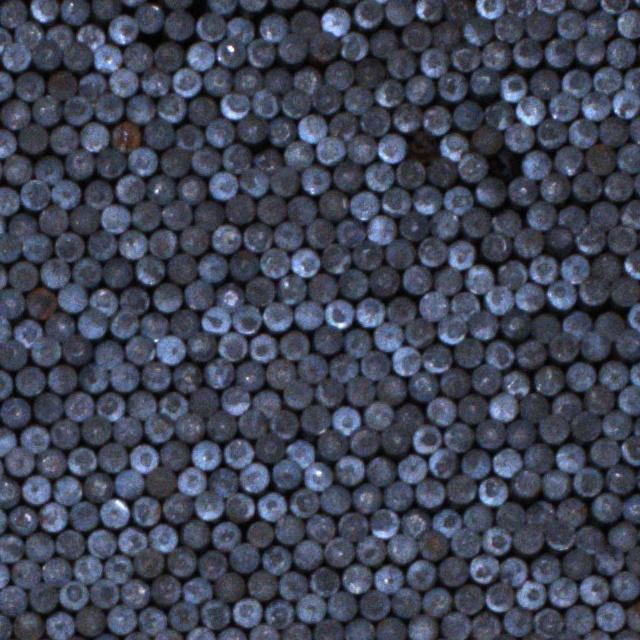tool: (593, 309, 627, 343), (538, 171, 571, 204), (25, 286, 58, 319), (316, 188, 349, 221), (560, 548, 594, 580), (254, 490, 288, 522), (588, 436, 622, 468), (412, 477, 447, 508), (144, 466, 177, 498), (557, 496, 590, 528), (270, 458, 303, 490), (222, 437, 255, 469), (435, 311, 468, 343), (545, 278, 578, 310), (604, 36, 636, 69), (490, 205, 522, 238), (187, 94, 220, 126), (166, 544, 197, 578), (510, 523, 544, 554), (583, 143, 617, 174), (528, 551, 560, 583), (556, 441, 588, 473), (204, 409, 236, 441), (566, 359, 598, 391), (202, 356, 234, 388), (548, 330, 580, 362), (571, 170, 603, 202), (160, 145, 192, 177), (14, 69, 46, 101), (320, 242, 352, 274), (384, 237, 416, 269), (480, 230, 512, 262), (283, 138, 315, 170), (484, 99, 516, 131), (405, 73, 437, 105), (419, 46, 451, 78), (222, 492, 255, 523), (536, 413, 569, 444), (601, 408, 634, 439), (393, 399, 426, 430), (499, 308, 532, 339), (448, 290, 481, 321), (513, 225, 544, 258), (134, 254, 167, 285), (109, 120, 142, 151), (244, 274, 275, 307), (385, 48, 418, 79), (442, 422, 476, 452), (184, 278, 214, 312), (133, 546, 164, 578), (150, 574, 182, 605), (341, 563, 373, 594), (228, 542, 260, 573), (322, 534, 354, 565), (416, 529, 448, 560), (99, 498, 130, 530), (159, 439, 191, 470), (94, 390, 126, 421), (108, 361, 140, 392), (155, 334, 187, 365), (591, 492, 622, 524), (540, 469, 572, 500), (572, 466, 604, 497), (238, 461, 270, 492), (428, 447, 460, 478), (492, 447, 524, 478), (523, 441, 555, 472), (190, 439, 222, 470), (505, 418, 537, 449), (488, 390, 519, 422), (516, 338, 547, 370), (310, 324, 341, 356), (402, 316, 434, 347), (531, 310, 562, 342), (353, 296, 384, 328), (71, 257, 102, 289), (95, 146, 126, 178), (62, 94, 93, 126), (370, 264, 401, 296), (462, 263, 494, 294), (496, 258, 528, 289), (288, 247, 320, 278), (210, 223, 242, 254), (474, 176, 506, 207), (269, 166, 301, 197), (364, 160, 395, 192), (458, 151, 489, 183), (278, 89, 310, 120), (310, 83, 342, 114), (232, 64, 263, 96), (451, 40, 482, 72), (482, 39, 513, 71), (246, 36, 277, 68), (165, 600, 198, 630), (212, 570, 245, 600), (384, 533, 417, 563), (448, 527, 481, 557), (303, 459, 333, 492), (363, 455, 396, 485), (348, 426, 381, 456), (597, 116, 630, 146), (103, 255, 133, 288), (126, 146, 159, 176), (142, 118, 175, 148), (430, 264, 463, 294), (343, 82, 373, 115), (134, 1, 164, 34), (606, 225, 640, 254), (572, 35, 606, 64), (533, 606, 564, 637), (197, 548, 228, 579), (36, 447, 67, 478), (141, 361, 172, 392), (289, 486, 320, 517), (344, 375, 375, 406), (376, 374, 407, 405), (265, 358, 296, 389), (297, 352, 328, 383), (454, 337, 485, 368), (341, 327, 372, 358), (384, 295, 415, 326), (525, 198, 556, 229), (580, 90, 611, 121), (511, 37, 542, 68), (8, 260, 39, 291), (40, 258, 71, 289), (54, 231, 85, 262), (146, 227, 177, 258), (64, 147, 95, 178), (109, 66, 140, 97), (461, 206, 492, 237), (349, 190, 380, 221), (442, 183, 473, 214), (332, 161, 363, 192), (346, 133, 377, 164), (392, 102, 423, 133), (452, 99, 483, 130), (401, 20, 432, 51), (232, 596, 262, 628), (358, 589, 390, 619), (405, 559, 437, 589), (544, 520, 576, 550), (595, 600, 625, 632), (608, 570, 640, 600), (116, 525, 148, 555), (8, 504, 38, 536), (131, 495, 161, 527), (162, 493, 194, 523), (0, 396, 32, 426), (157, 390, 189, 420), (48, 361, 78, 393), (12, 317, 44, 347), (76, 307, 108, 337), (494, 502, 526, 532), (604, 464, 636, 494), (334, 454, 364, 486), (253, 432, 285, 462), (411, 424, 443, 454), (236, 406, 266, 438), (520, 392, 552, 422), (408, 370, 440, 400), (470, 364, 502, 394), (534, 362, 564, 394), (597, 360, 629, 390), (580, 330, 612, 360), (248, 332, 280, 362), (592, 251, 624, 281), (520, 149, 552, 179), (503, 122, 535, 152), (515, 95, 547, 125), (118, 284, 150, 314), (168, 252, 198, 284), (100, 204, 132, 234), (161, 200, 193, 230), (124, 93, 156, 123), (141, 65, 171, 97), (171, 66, 201, 98), (0, 41, 32, 71), (275, 275, 307, 305), (398, 210, 430, 240), (255, 194, 287, 224), (301, 163, 331, 195), (438, 70, 468, 102), (278, 32, 308, 64), (308, 30, 340, 60), (308, 566, 341, 595), (353, 481, 382, 514), (215, 331, 248, 360), (279, 328, 308, 361), (31, 154, 64, 183), (471, 124, 504, 153), (235, 114, 268, 143), (106, 603, 136, 634), (198, 598, 229, 628), (295, 592, 325, 623), (182, 575, 213, 605), (260, 542, 290, 573), (481, 524, 512, 554), (68, 501, 99, 531), (84, 472, 114, 503), (126, 389, 157, 419), (30, 335, 61, 365), (45, 312, 76, 342), (180, 518, 211, 548), (463, 501, 493, 532), (321, 484, 352, 514), (446, 473, 477, 503), (477, 476, 508, 506), (176, 465, 206, 496), (396, 453, 427, 483), (459, 448, 490, 478), (456, 393, 487, 423), (440, 367, 470, 398), (234, 360, 265, 390), (391, 344, 421, 375), (422, 343, 453, 373), (562, 309, 593, 339), (528, 252, 558, 283), (575, 223, 606, 253), (507, 174, 538, 204), (536, 118, 567, 148), (568, 118, 598, 149), (524, 10, 555, 40), (584, 9, 615, 39), (57, 282, 88, 312), (39, 204, 69, 235), (115, 173, 145, 204), (49, 124, 80, 154), (32, 40, 63, 70), (123, 41, 153, 72), (338, 269, 368, 300), (417, 236, 447, 267), (179, 225, 210, 255), (273, 220, 304, 250), (430, 209, 460, 240), (286, 194, 316, 225), (426, 157, 456, 188), (204, 118, 235, 148), (298, 112, 328, 143), (468, 66, 499, 96), (294, 64, 324, 95), (325, 59, 355, 90), (216, 36, 246, 67), (338, 30, 369, 60), (430, 20, 461, 50), (462, 15, 493, 45), (163, 10, 194, 40), (257, 12, 288, 42), (320, 6, 351, 36), (12, 611, 44, 640), (75, 604, 104, 636), (452, 584, 484, 613), (245, 569, 277, 598), (438, 555, 470, 584), (51, 475, 83, 504), (18, 423, 50, 452), (80, 414, 112, 443), (14, 365, 46, 394), (275, 514, 304, 546), (206, 467, 238, 496), (267, 410, 299, 439), (168, 307, 200, 336), (578, 276, 610, 305), (560, 69, 592, 98), (544, 36, 573, 68), (22, 233, 54, 262), (92, 93, 124, 122), (156, 93, 188, 122), (192, 145, 221, 177), (361, 104, 390, 136), (399, 508, 432, 536), (44, 610, 74, 640), (28, 581, 58, 611), (40, 555, 70, 585), (470, 610, 500, 640), (503, 606, 533, 636), (564, 604, 594, 634), (484, 581, 514, 611), (278, 570, 308, 600), (373, 562, 403, 592), (606, 520, 636, 550), (24, 531, 54, 561), (87, 528, 117, 558), (149, 523, 179, 553), (21, 474, 51, 504), (5, 446, 35, 476), (98, 442, 128, 472), (129, 443, 159, 473), (50, 418, 80, 448), (113, 416, 143, 446), (34, 392, 64, 422), (64, 390, 94, 420), (62, 334, 92, 364), (138, 310, 168, 340), (383, 480, 413, 510), (317, 429, 347, 459), (571, 410, 601, 440), (300, 404, 330, 434), (189, 386, 219, 416), (220, 384, 250, 414), (314, 376, 344, 406), (500, 367, 530, 397), (328, 353, 358, 383), (230, 305, 260, 335), (323, 299, 353, 329), (514, 282, 544, 312), (553, 146, 583, 176), (555, 9, 585, 39), (153, 282, 183, 312), (86, 230, 116, 260), (118, 229, 148, 259), (52, 178, 82, 208), (146, 174, 176, 204), (174, 122, 204, 152), (47, 70, 77, 100), (92, 42, 122, 72), (308, 272, 338, 302), (402, 264, 432, 294), (242, 221, 272, 251), (367, 215, 397, 245), (220, 90, 250, 120), (374, 77, 404, 107), (108, 14, 138, 44), (439, 611, 470, 640), (515, 580, 546, 609), (579, 574, 608, 605), (55, 529, 86, 558), (38, 501, 67, 532), (144, 413, 175, 442), (79, 362, 108, 393), (109, 307, 138, 338), (305, 513, 336, 542), (368, 509, 399, 538), (379, 425, 410, 454), (361, 350, 392, 379), (200, 306, 231, 335), (560, 253, 589, 284), (556, 203, 587, 232), (528, 68, 559, 97), (70, 203, 99, 234), (82, 179, 113, 208), (2, 154, 31, 185), (17, 124, 48, 153), (1, 98, 30, 129), (32, 95, 61, 126), (63, 41, 92, 72), (352, 241, 383, 270), (447, 238, 476, 269), (304, 218, 335, 247), (335, 217, 366, 246), (194, 200, 225, 229), (176, 174, 207, 203), (207, 170, 238, 199), (267, 115, 296, 146), (355, 57, 384, 88), (196, 10, 225, 41), (224, 15, 255, 44), (352, 0, 383, 29), (88, 578, 120, 606), (263, 598, 295, 626), (420, 586, 452, 614), (550, 90, 578, 122), (614, 327, 640, 361), (136, 605, 166, 634), (9, 559, 39, 588), (72, 554, 102, 583), (594, 545, 624, 574), (114, 469, 144, 498), (125, 335, 155, 364), (475, 418, 504, 448), (364, 400, 394, 429), (426, 396, 456, 425), (553, 391, 583, 420), (584, 384, 614, 413), (251, 388, 281, 417), (283, 379, 312, 409), (172, 362, 201, 392), (372, 322, 402, 351), (469, 310, 498, 340), (293, 300, 323, 329), (418, 291, 447, 321), (484, 285, 514, 314), (610, 276, 640, 305), (498, 71, 527, 101), (132, 200, 161, 230), (198, 252, 227, 282), (228, 249, 258, 278), (382, 187, 412, 216), (413, 184, 442, 214), (396, 159, 425, 189), (202, 66, 232, 95), (186, 40, 215, 70), (369, 28, 398, 58), (289, 8, 319, 37), (76, 21, 106, 50), (326, 592, 357, 620), (547, 577, 578, 605), (93, 339, 124, 367), (431, 508, 462, 536), (512, 467, 540, 498), (175, 411, 203, 442), (486, 337, 514, 368), (592, 66, 623, 94), (7, 211, 38, 239), (378, 132, 406, 163), (440, 130, 468, 161), (328, 111, 359, 139), (264, 65, 292, 96), (406, 613, 438, 640), (59, 580, 88, 609), (356, 534, 385, 563), (211, 521, 240, 550), (527, 499, 556, 528), (331, 405, 360, 434), (187, 332, 216, 361), (588, 200, 617, 229), (604, 171, 633, 200), (494, 13, 523, 42), (79, 71, 108, 100), (102, 554, 132, 582), (338, 511, 368, 539), (194, 490, 222, 520), (285, 438, 315, 466), (544, 226, 574, 254), (612, 89, 640, 119), (80, 121, 110, 149), (214, 280, 244, 308), (260, 247, 288, 277), (225, 195, 255, 223), (222, 143, 250, 173), (316, 136, 346, 164), (423, 105, 453, 133), (292, 540, 323, 567), (13, 21, 44, 48), (251, 147, 283, 173), (499, 556, 528, 584), (68, 446, 97, 474), (263, 303, 292, 331), (90, 287, 118, 316), (21, 180, 49, 209), (154, 42, 183, 70), (240, 168, 268, 197), (250, 89, 278, 118), (0, 584, 27, 614), (0, 340, 27, 370), (44, 22, 74, 49), (576, 524, 604, 552), (246, 520, 274, 548), (120, 579, 149, 606), (392, 587, 419, 616), (375, 615, 406, 640), (470, 554, 498, 581), (0, 0, 28, 27), (60, 0, 90, 25), (0, 532, 24, 563), (385, 0, 416, 24), (616, 198, 640, 228), (616, 8, 640, 38), (0, 288, 24, 318), (617, 384, 640, 415), (443, 0, 474, 23), (617, 143, 640, 173), (344, 618, 375, 640), (0, 477, 22, 508), (312, 619, 344, 640), (0, 184, 20, 215), (0, 234, 22, 262), (416, 0, 444, 22), (278, 622, 312, 640), (30, 0, 59, 21), (621, 493, 640, 523), (622, 434, 640, 465), (624, 598, 640, 632), (249, 623, 279, 640), (504, 0, 534, 17), (92, 0, 122, 17), (622, 66, 640, 94), (624, 248, 640, 279), (476, 0, 505, 17), (624, 544, 640, 574), (0, 426, 16, 456), (0, 128, 16, 158), (534, 0, 564, 15), (216, 626, 248, 640), (186, 626, 217, 640), (207, 0, 237, 14), (599, 0, 629, 13), (0, 369, 13, 398), (0, 70, 13, 99), (567, 0, 598, 12), (0, 314, 11, 344), (0, 23, 12, 50)
tool_b: (486, 148, 517, 182), (404, 132, 438, 163)
